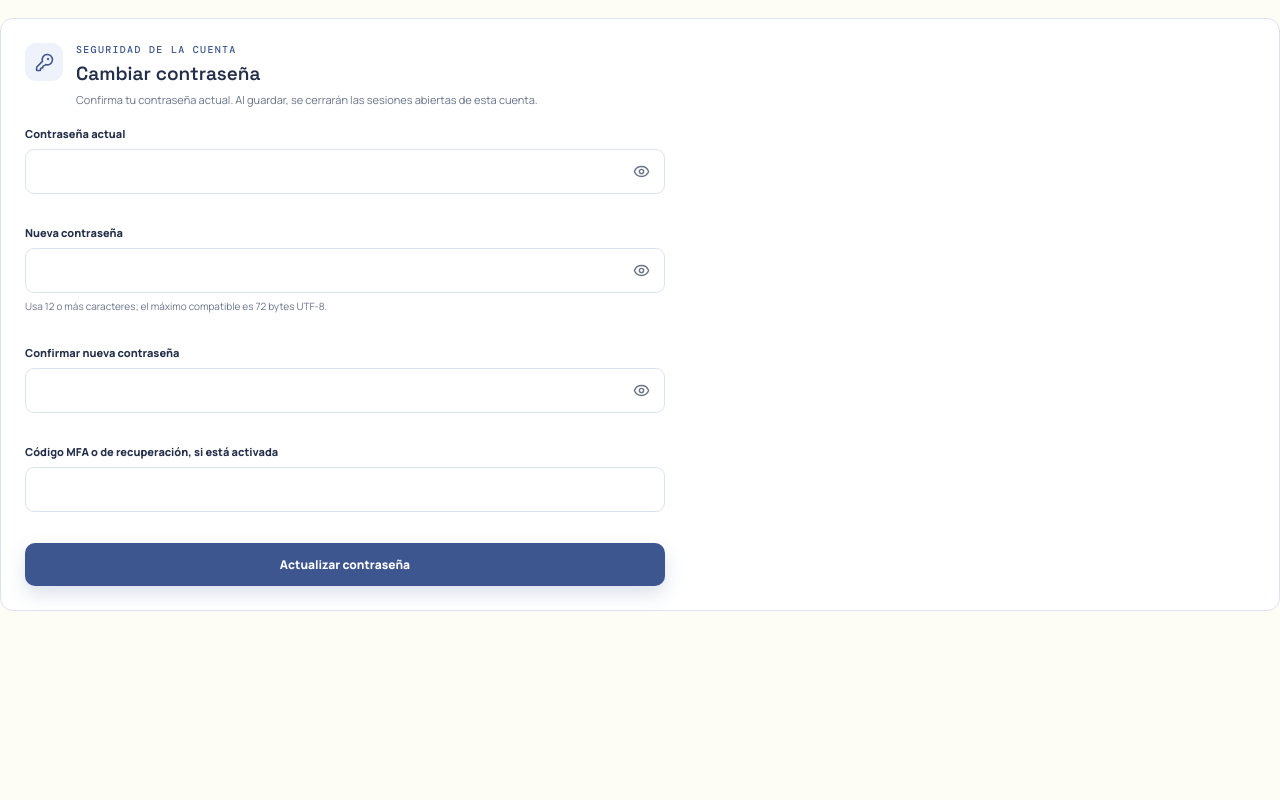
it: ChangePasswordCard › blocks mismatched confirmation before sending the password
This screenshot has width=1280, height=800.
Type "current-password" into the password field labelled "Contraseña actual" at (345, 171), box x1=25 y1=149 x2=665 y2=194
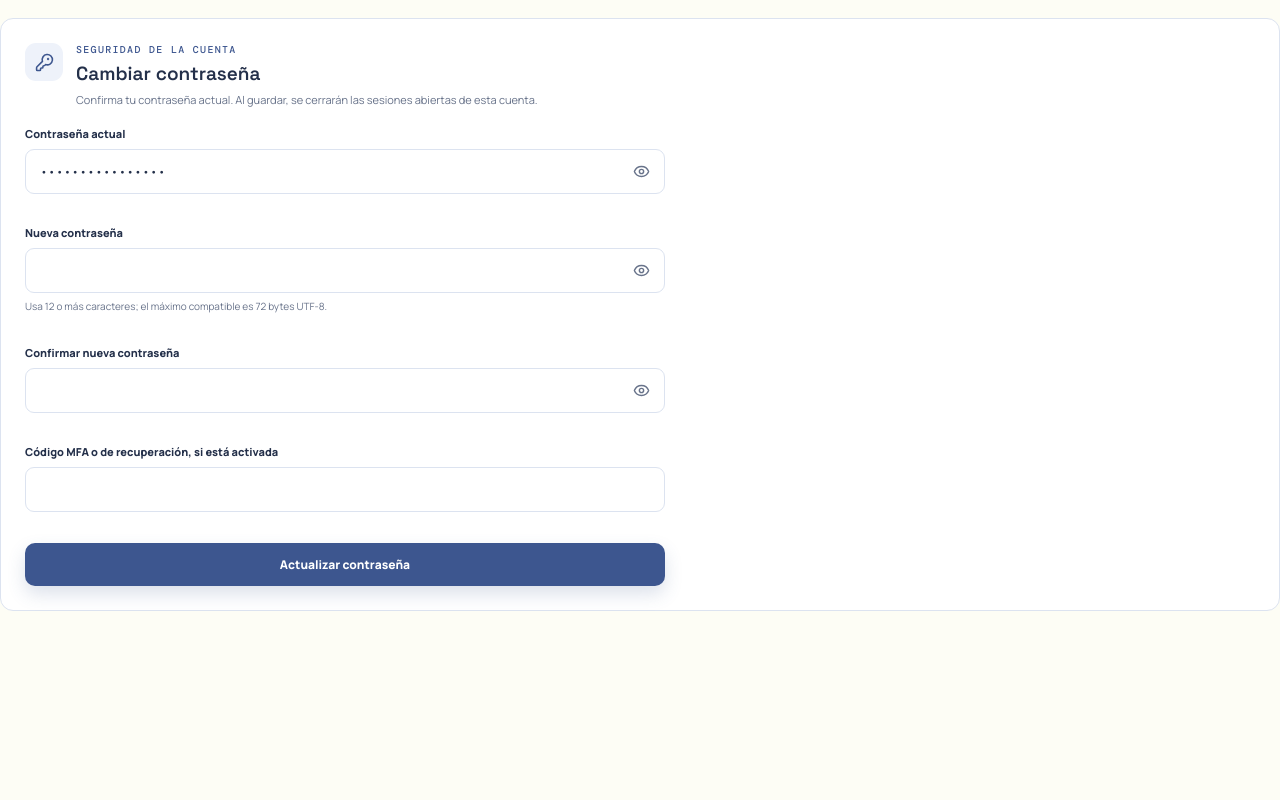
Type "a-long-new-password" into the password field labelled "Nueva contraseña" at (345, 270), box x1=25 y1=248 x2=665 y2=293
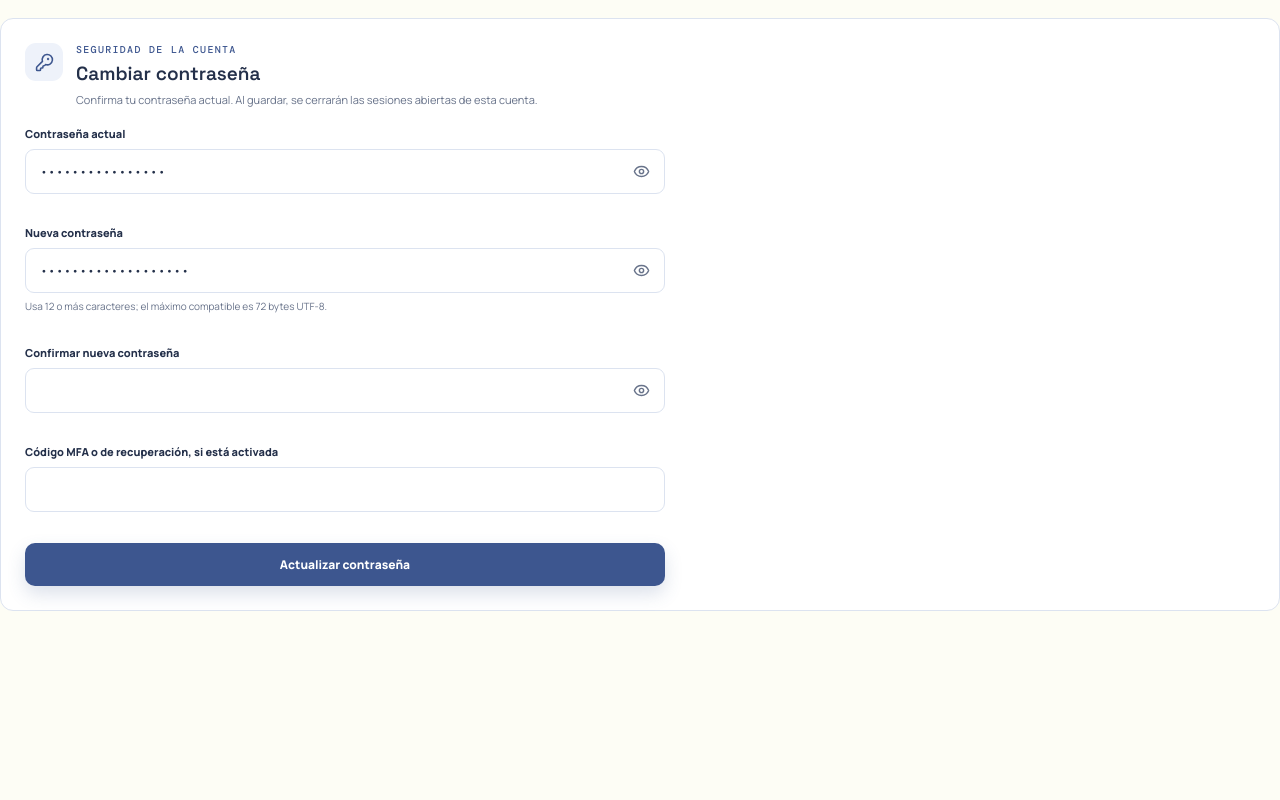
Type "another-password" into the password field labelled "Confirmar nueva contraseña" at (345, 390), box x1=25 y1=368 x2=665 y2=413
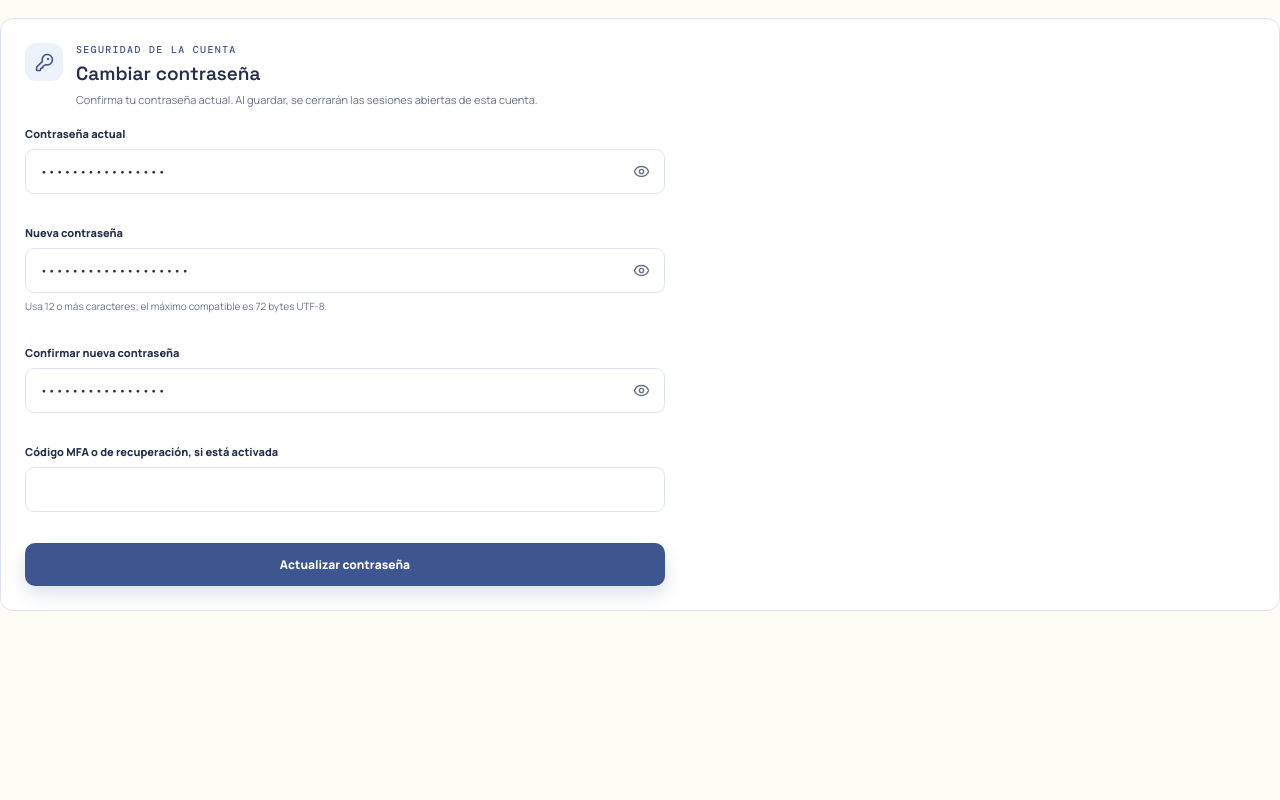
Submit the form named "Actualizar contraseña", box x1=25 y1=126 x2=665 y2=586
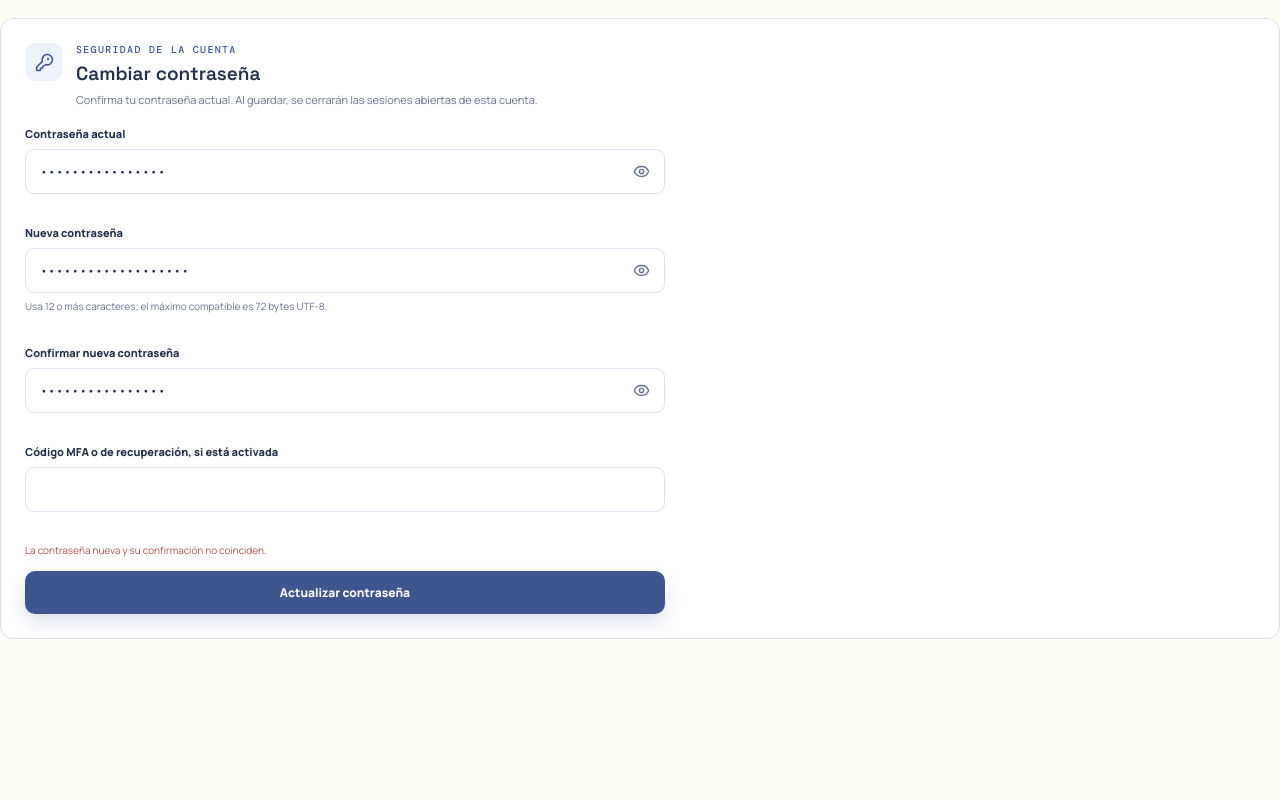
Check: the message shows "no coinciden", box x1=25 y1=543 x2=266 y2=557
